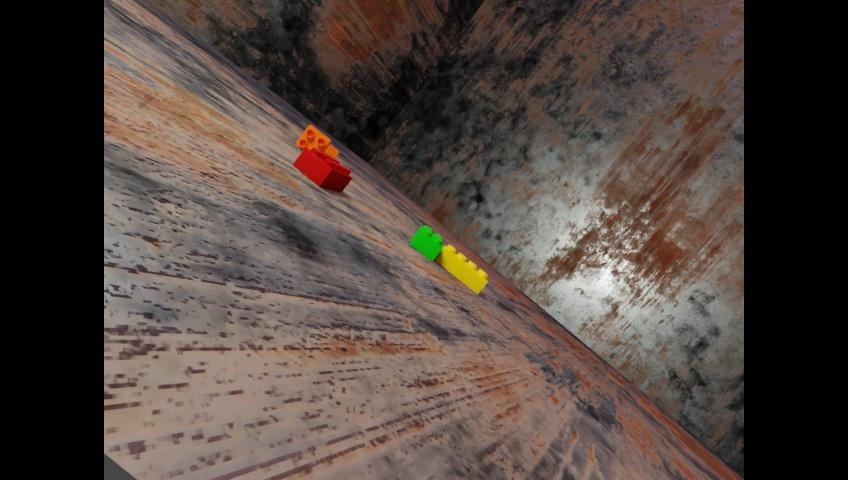2x2_orange: (295, 124, 330, 151), (324, 144, 338, 158)
4x2_green: (410, 224, 442, 260)
4x2_red: (292, 146, 350, 191)
4x2_yellow: (435, 244, 487, 293)
